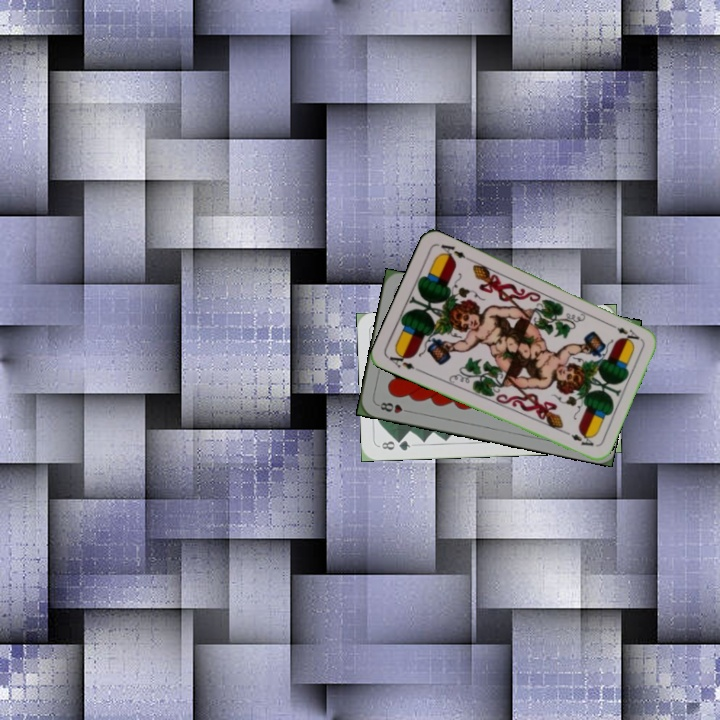EA: (385, 348, 423, 374), (605, 320, 642, 342)
G8: (378, 436, 413, 453)
H8: (373, 398, 414, 416)
